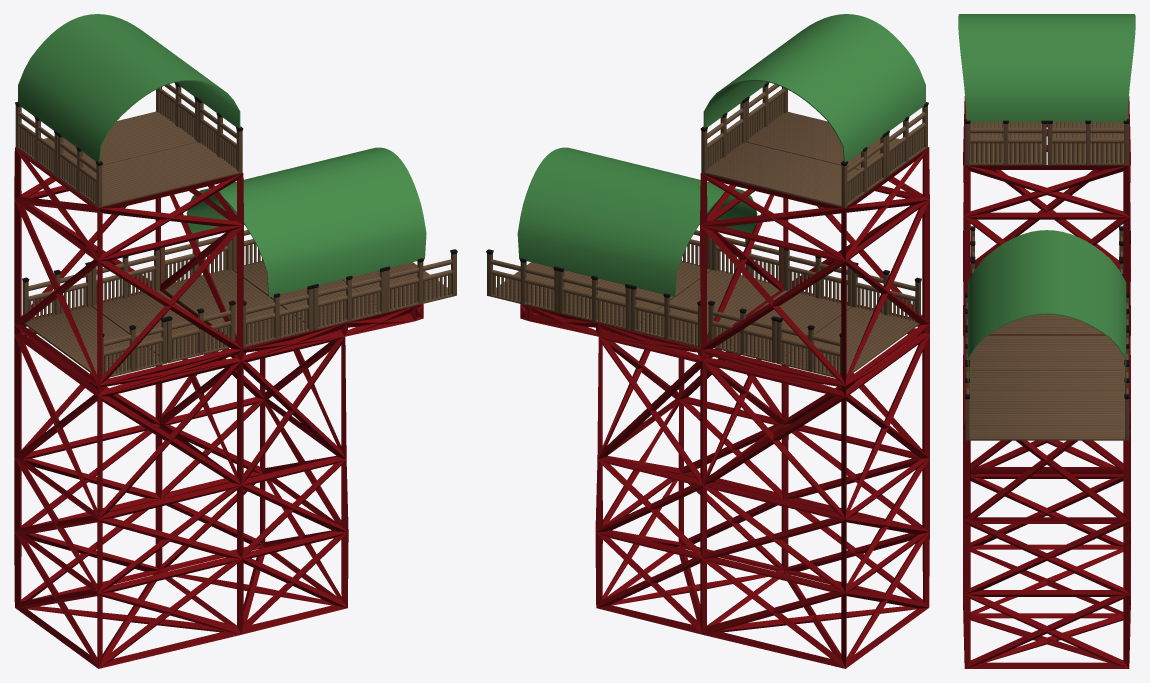
File: End.fbx
3 views of the same model, side by side, from view 1: azimuth 30°, elevation 25°; view 2: azimuth 150°, elevation 25°; view 3: azimuth 270°, elevation 25° (orthographic).
Parts seen in each view (by area): view 1: Cube.001, Cylinder.005, Plane.001, Plane, Cylinder.002; view 2: Cube.001, Cylinder.005, Plane.001, Plane, Cylinder.002; view 3: Cube.001, Cylinder.005, Plane, Plane.001, Cylinder.002.
Boxes of the visible parts, left/top/right/bottom form: Cube.001: left=14, top=147, right=423, bottom=668; Cylinder.005: left=22, top=230, right=457, bottom=377; Plane.001: left=186, top=147, right=426, bottom=297; Plane: left=18, top=14, right=240, bottom=162; Cylinder.002: left=15, top=82, right=243, bottom=207; Cube.001: left=520, top=147, right=929, bottom=668; Cylinder.005: left=486, top=230, right=921, bottom=377; Plane.001: left=517, top=147, right=757, bottom=296; Plane: left=703, top=14, right=925, bottom=162; Cylinder.002: left=700, top=82, right=928, bottom=207; Cube.001: left=963, top=96, right=1130, bottom=668; Cylinder.005: left=965, top=226, right=1129, bottom=440; Plane: left=958, top=14, right=1135, bottom=121; Plane.001: left=967, top=230, right=1126, bottom=383; Cylinder.002: left=964, top=102, right=1129, bottom=165.
Size of the model in its own units: 1623 by 2465 by 703.
